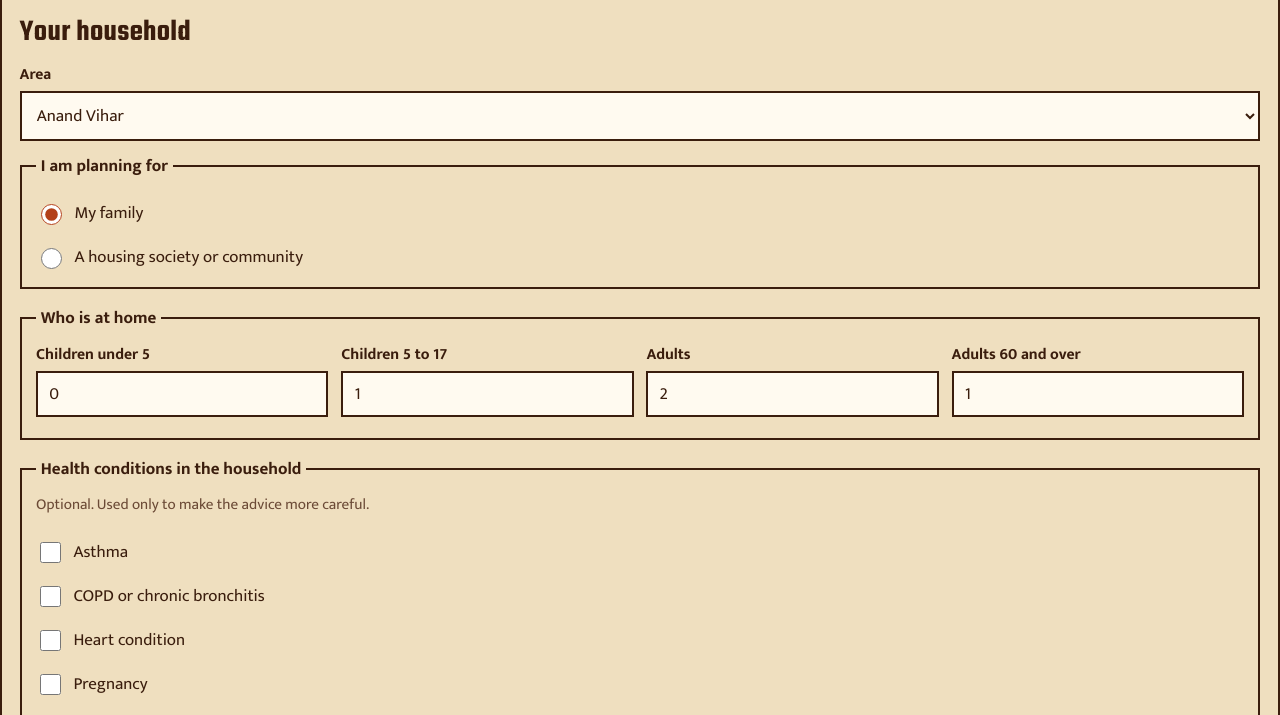
Test: ProfileForm › clamps numbers and blocks an empty household
The width and height of the screenshot is (1280, 715).
Step 1. Replace the text in the number field labelled "Adults" with "99" → (793, 394), box [646,371,939,417]
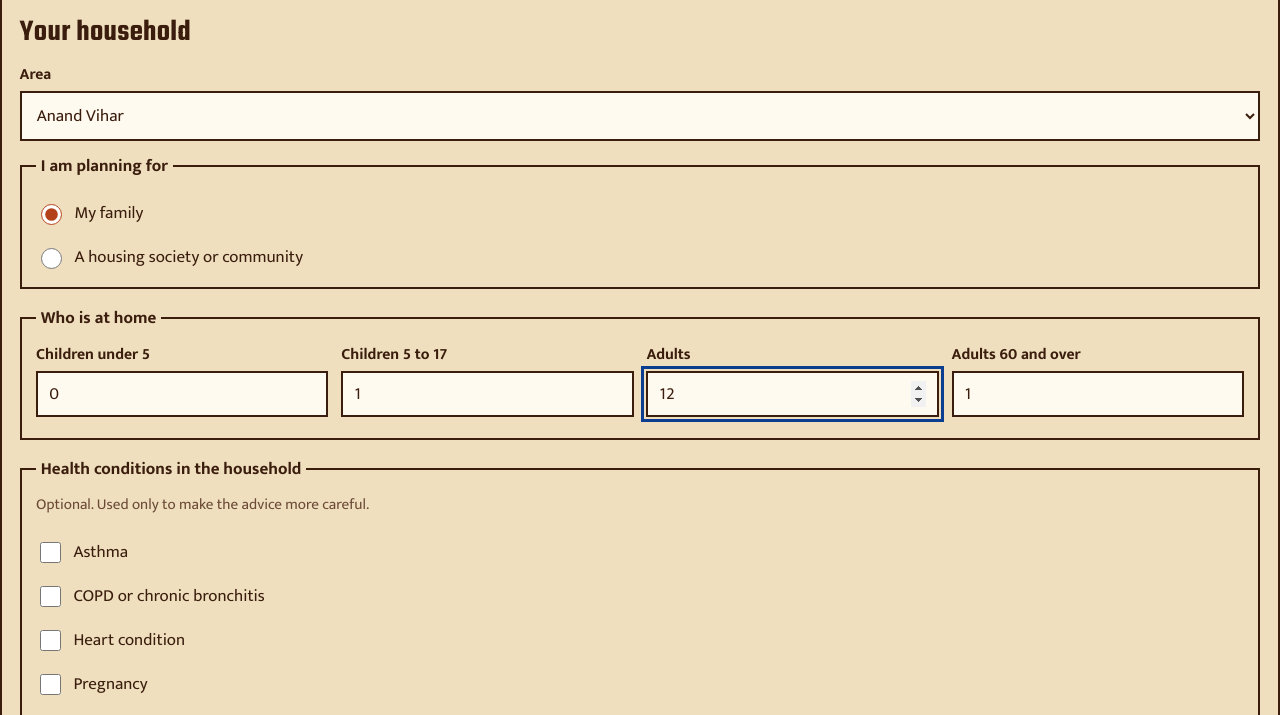
expect the number field labelled "Adults" holds "12": met, box [646,371,939,417]
Step 2. Clear the number field labelled "Children under 5" → (182, 394), box [36,371,328,417]
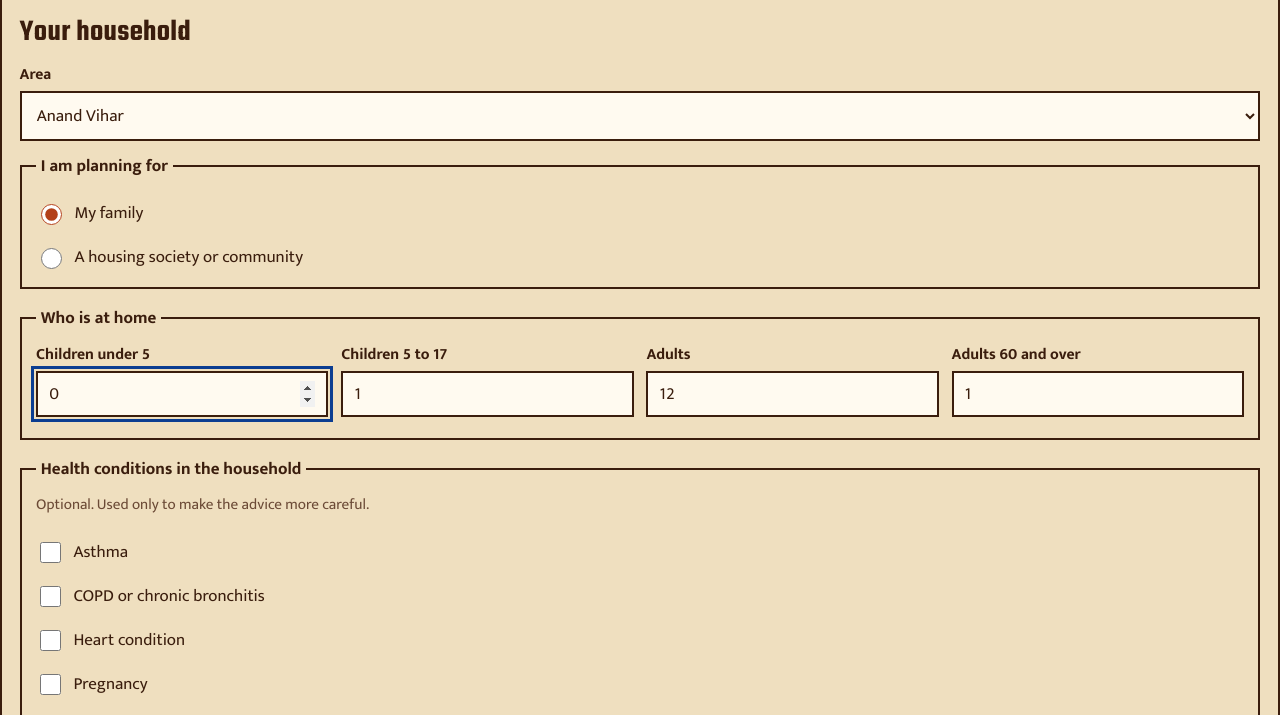
Step 3. Clear the number field labelled "Children 5 to 17" → (487, 394), box [341,371,634,417]
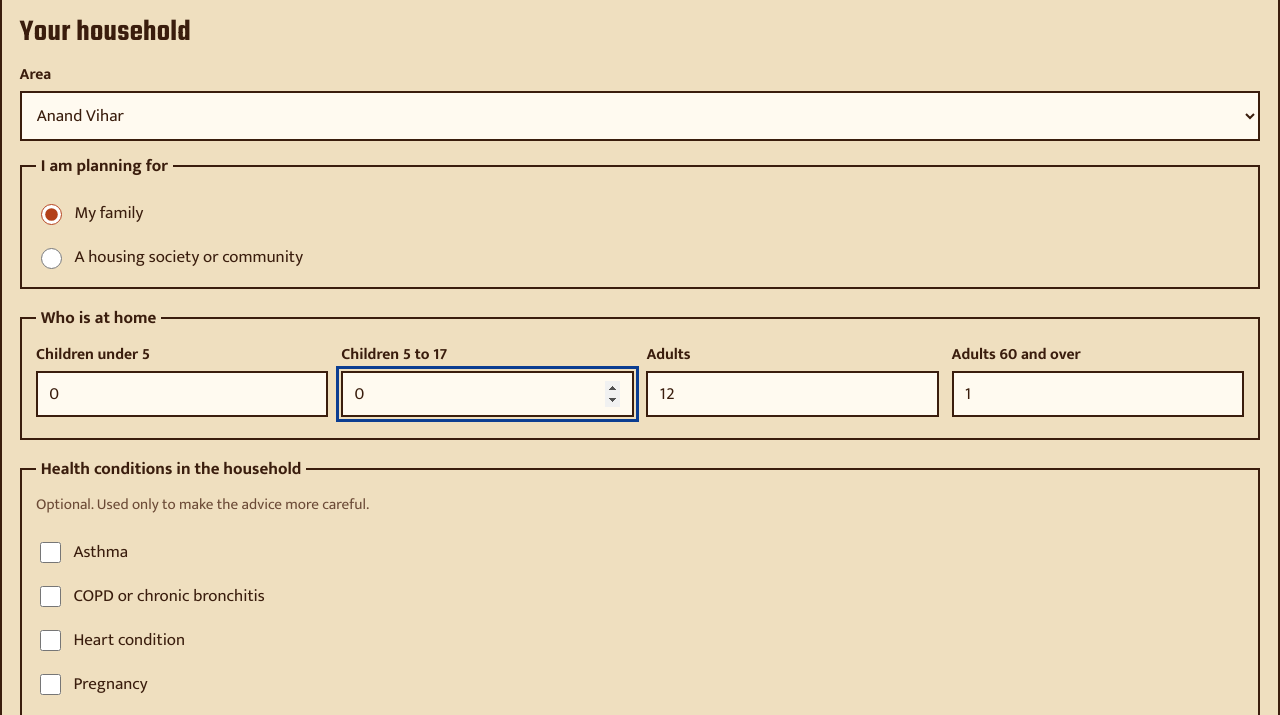
Step 4. Clear the number field labelled "Adults" → (793, 394), box [646,371,939,417]
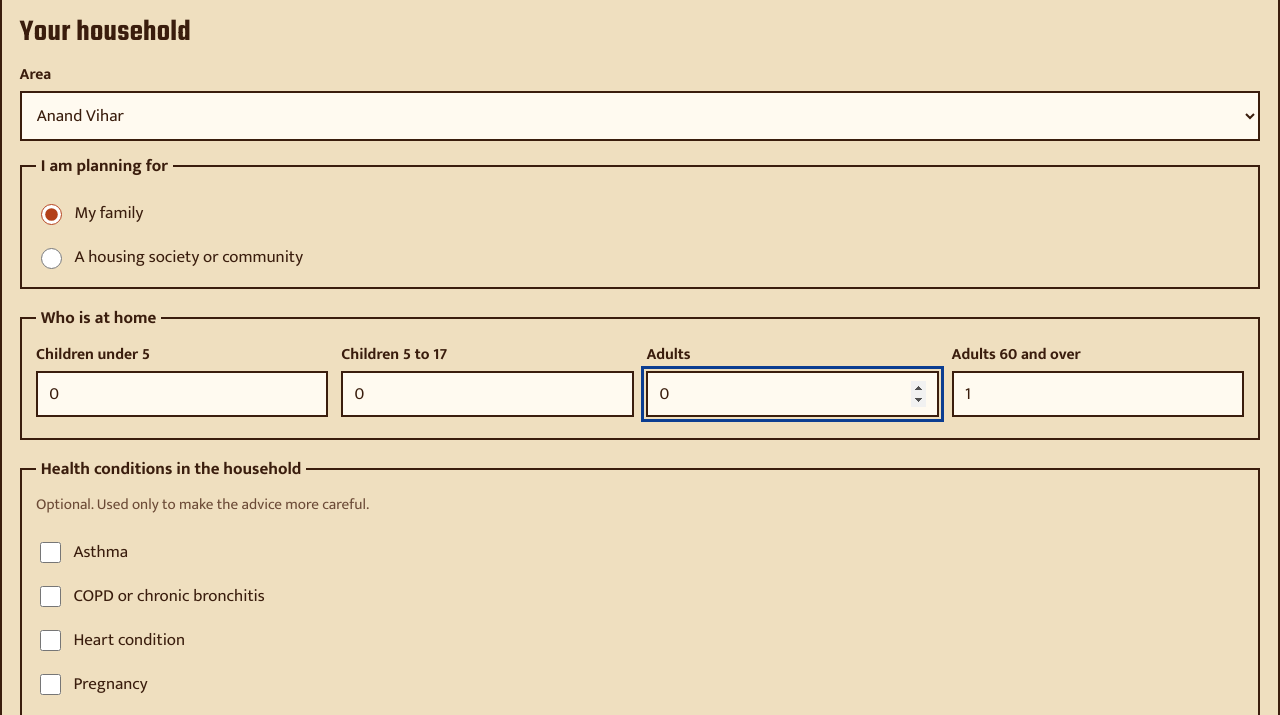
Step 5. Clear the number field labelled "Adults 60 and over" → (1098, 394), box [952,371,1244,417]
(page scrolled)
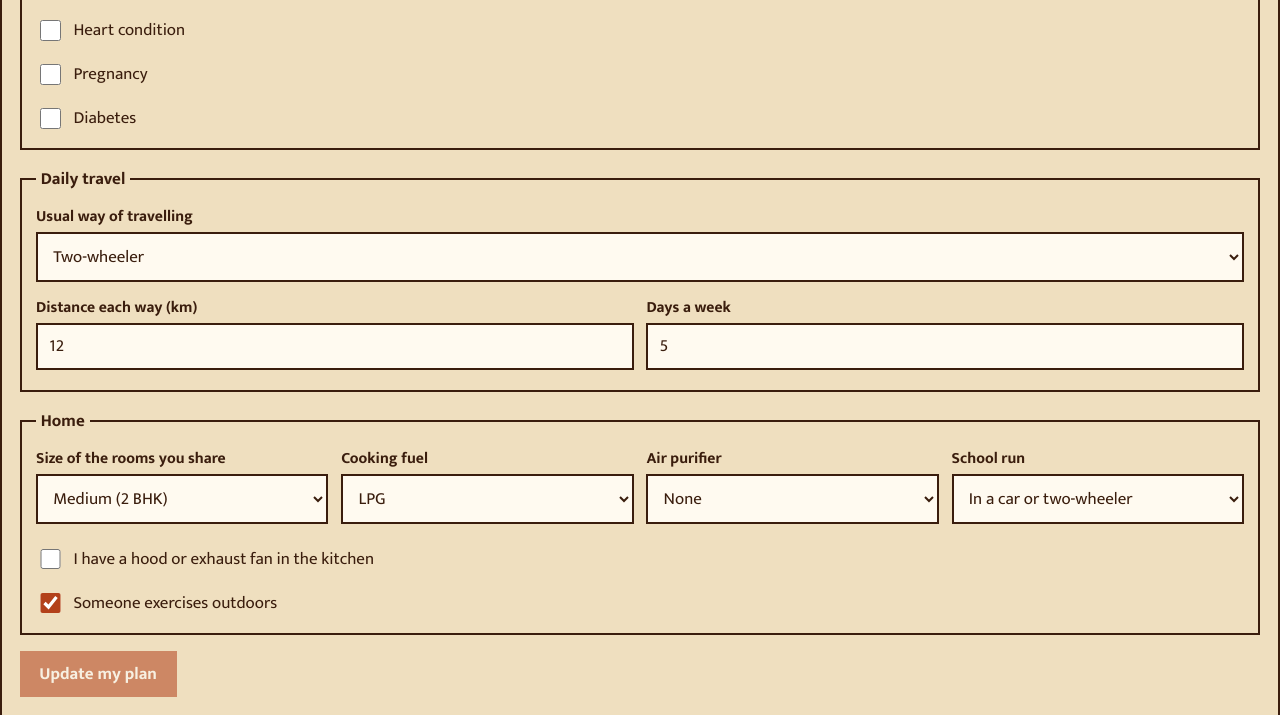
expect the button "Update my plan" is disabled: met, box [20,651,176,697]
